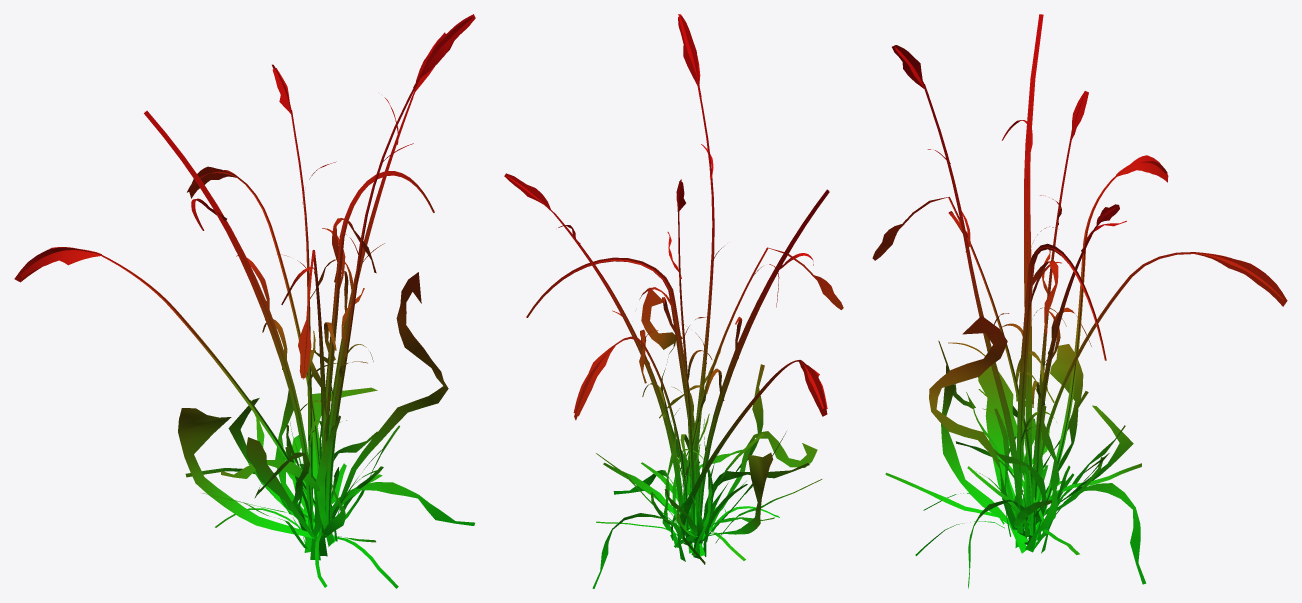
Rendered from tdcrdbur_Var2_LOD0.fbx.
The picture shows the model from 3 angles, left to right: view 1: azimuth 30°, elevation 25°; view 2: azimuth 150°, elevation 25°; view 3: azimuth 270°, elevation 25°; orthographic projection. The views are drawn at different scales.
Visible parts, largest first — view 1: _0148_Var2_LOD0; view 2: _0148_Var2_LOD0; view 3: _0148_Var2_LOD0.
Boxes of the visible parts, box(x1,y1,x2,y2) form: _0148_Var2_LOD0: box(14, 14, 475, 588); _0148_Var2_LOD0: box(504, 14, 843, 588); _0148_Var2_LOD0: box(872, 14, 1287, 588).
Size of the model in its own units: 86.82 by 118 by 80.04.
